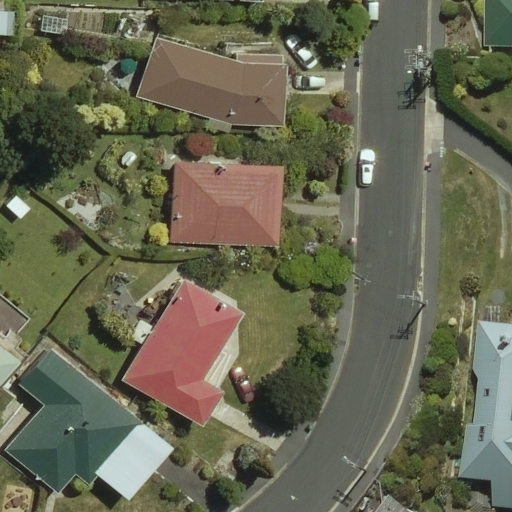DT: (401, 39, 436, 86), (395, 283, 435, 318), (337, 451, 371, 479)
